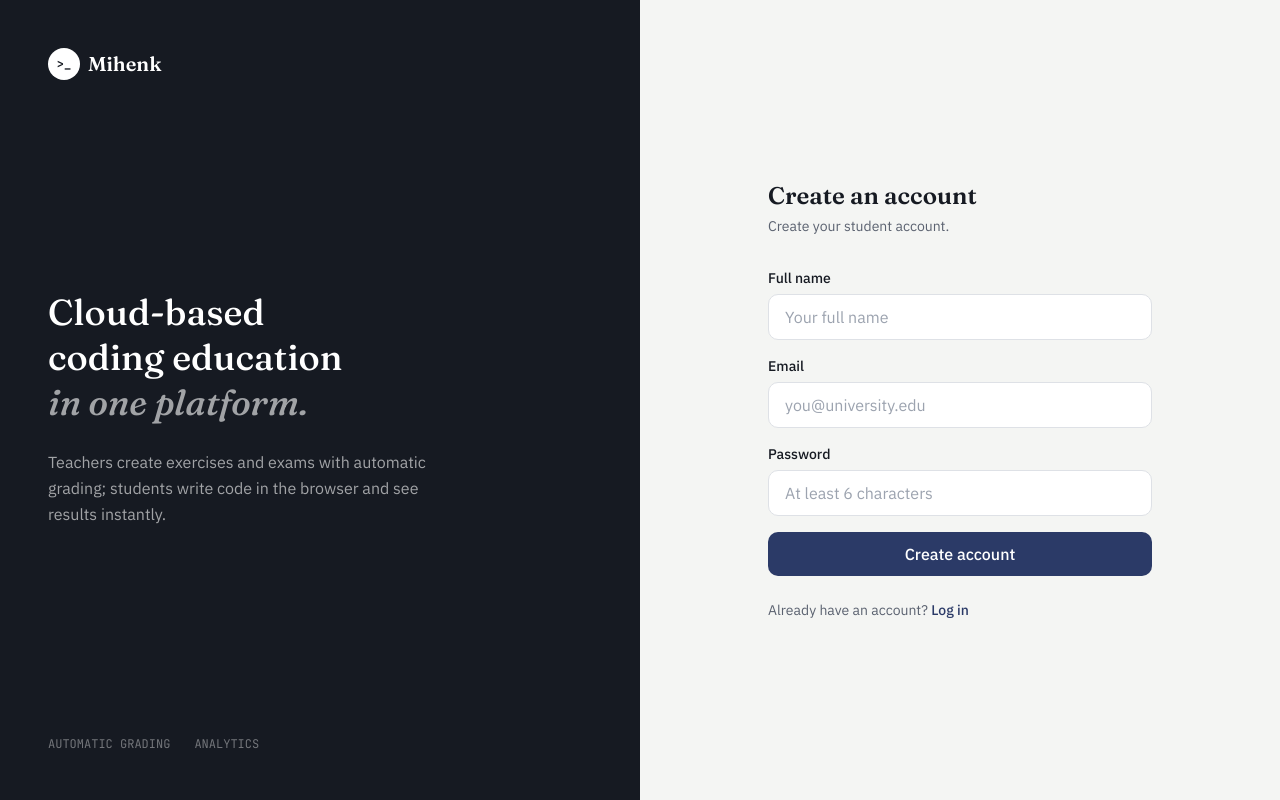
Test: registration › shows the server error rather than failing silently
Step 1. Type "Ada" into the field labelled "Full name" → (960, 317), box x1=768 y1=294 x2=1152 y2=340
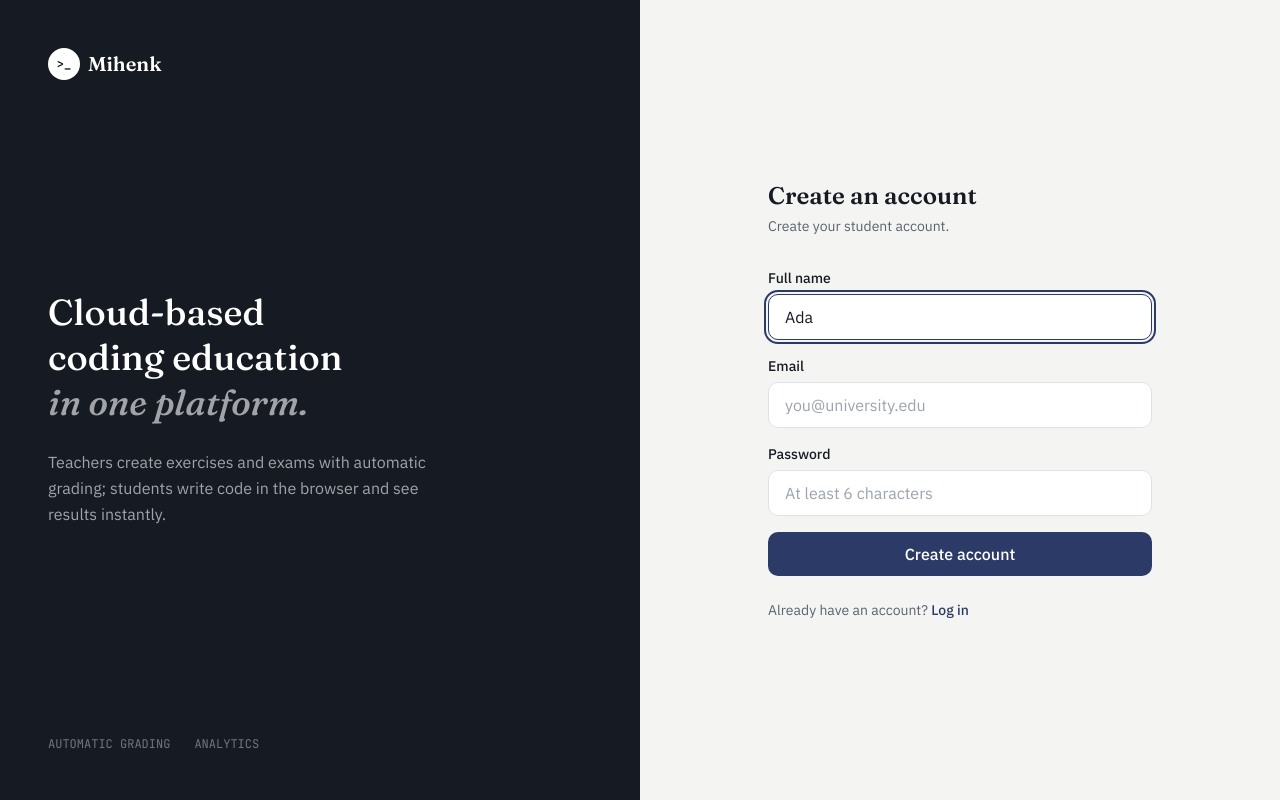
Step 2. Type "taken@x.edu" into the field labelled "Email" → (960, 405), box x1=768 y1=382 x2=1152 y2=428
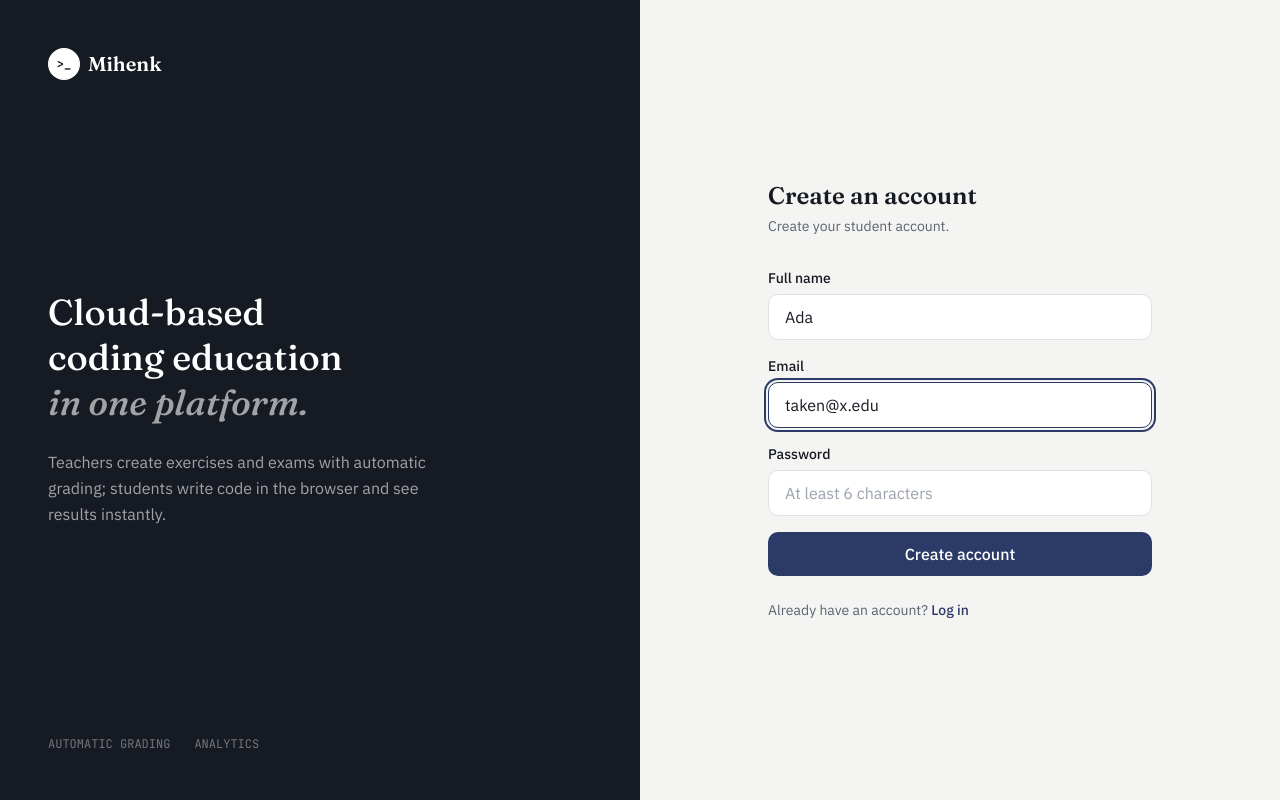
Step 3. Type "password123" into the password field labelled "Password" → (960, 493), box x1=768 y1=470 x2=1152 y2=516
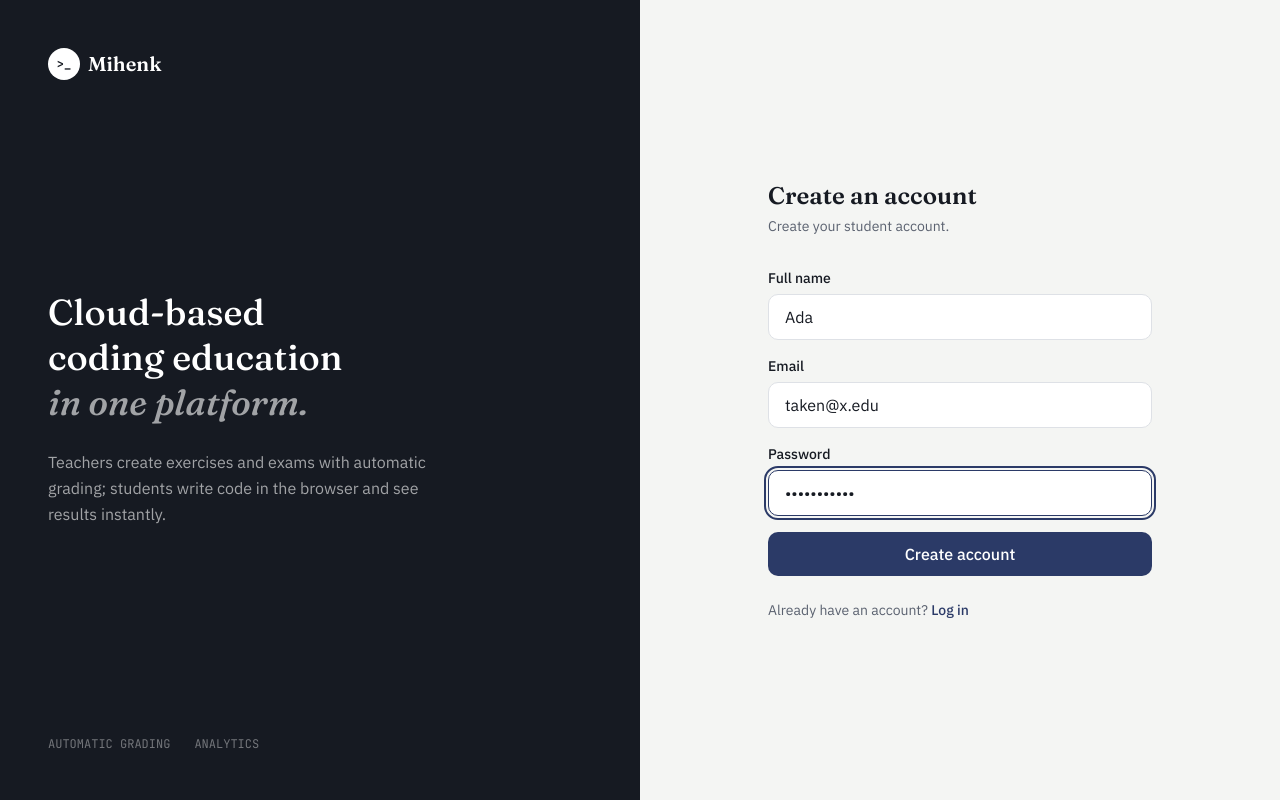
Step 4. Click the button "Create account" → (960, 554), box x1=768 y1=532 x2=1152 y2=576
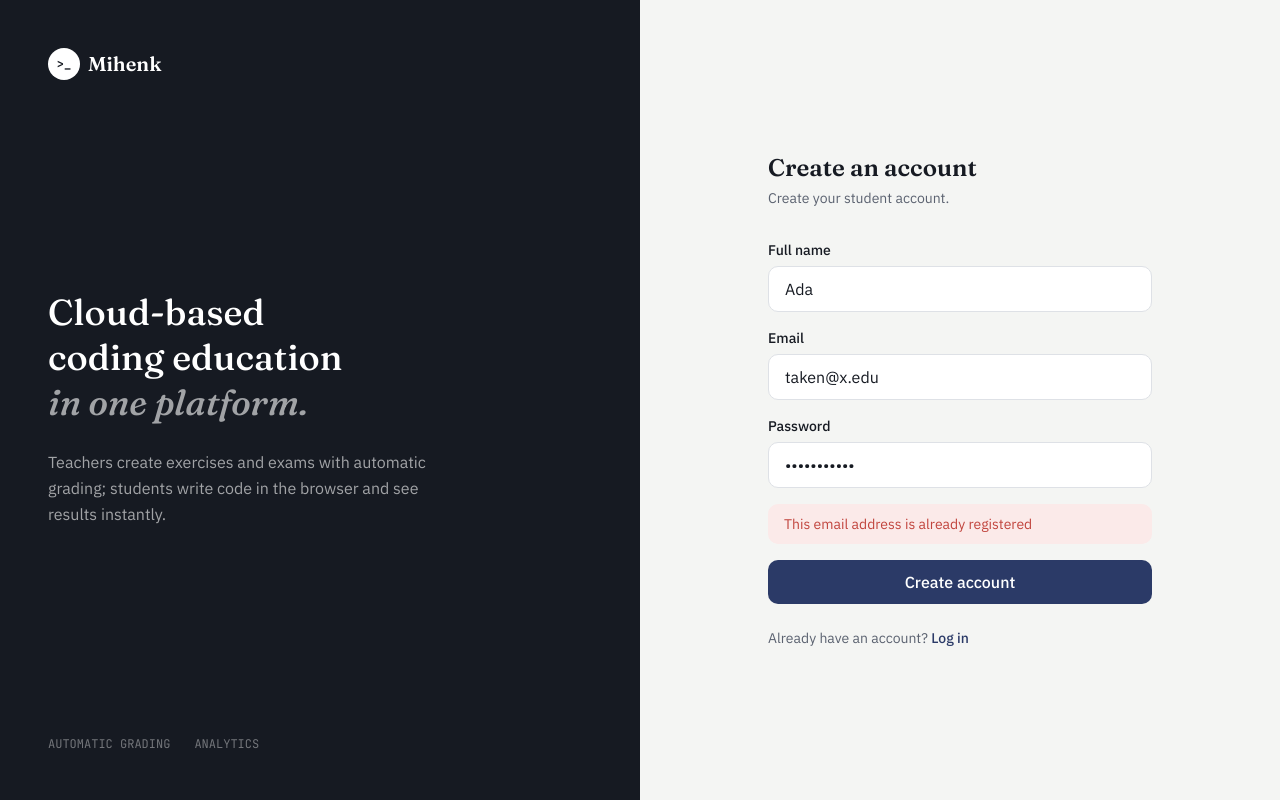
Expected: the text "This email address is already registered" is shown, x1=768 y1=504 x2=1152 y2=544
